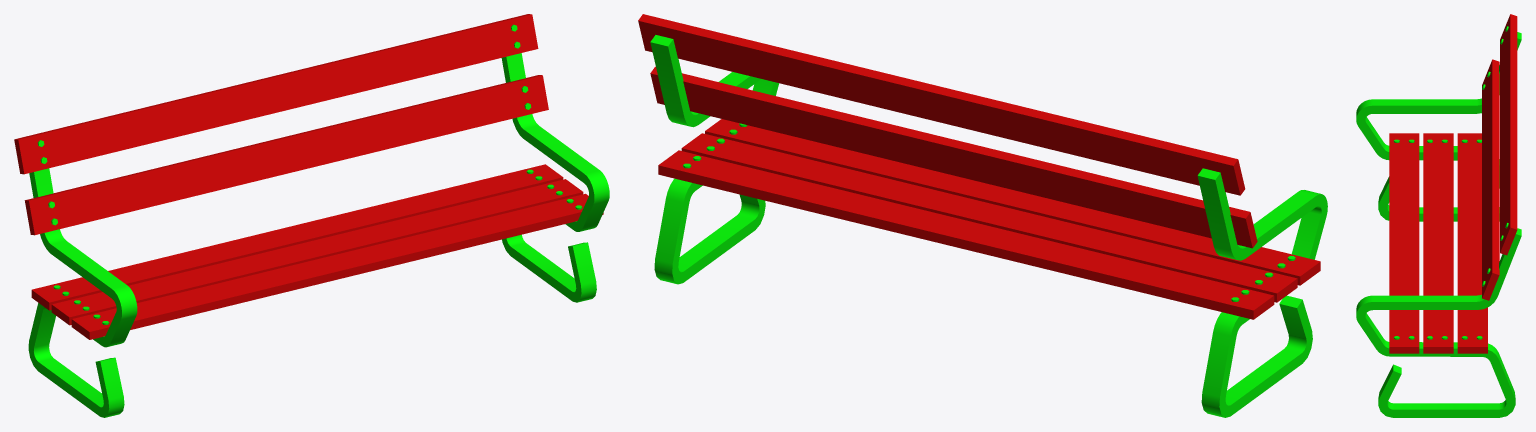
File: Bench.FBX
3 renders of one model, left to right at view 1: azimuth 30°, elevation 25°; view 2: azimuth 150°, elevation 25°; view 3: azimuth 270°, elevation 25°, orthographic. The views are drawn at different scales.
Parts seen in each view (by area): view 1: Bench; view 2: Bench; view 3: Bench.
Boxes of the visible parts, left/top/right/bottom form: Bench: left=14, top=14, right=609, bottom=417; Bench: left=638, top=14, right=1327, bottom=417; Bench: left=1356, top=14, right=1521, bottom=417.
Size of the model in its own units: 2.09 by 0.8959 by 0.6862.
